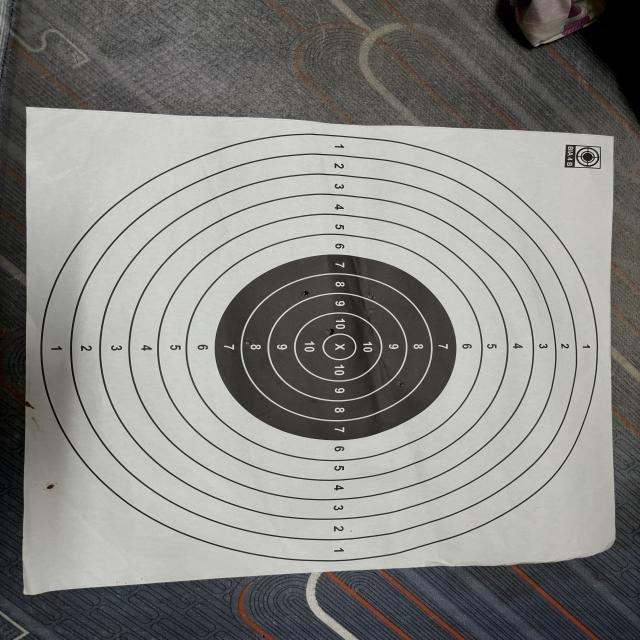bullet: (366, 308, 378, 316), (328, 328, 336, 336), (48, 484, 56, 492), (396, 381, 404, 387), (368, 293, 374, 299), (304, 288, 308, 296), (245, 340, 251, 345)
target: (24, 120, 616, 576)
